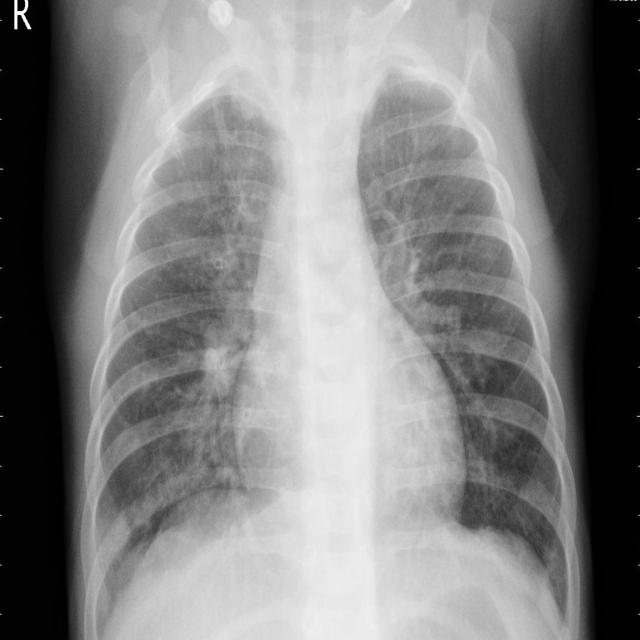low-pneumonia: (378, 216, 452, 353), (191, 294, 244, 432)
